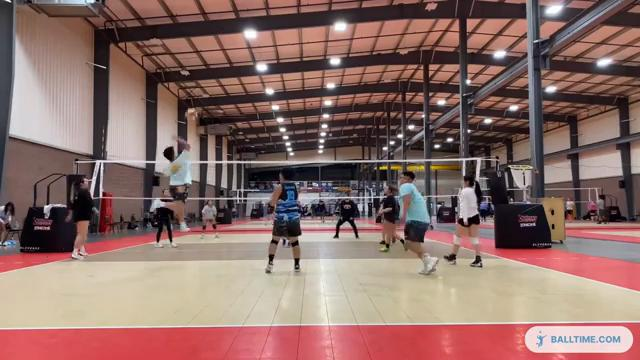attacco: (147, 131, 192, 234)
